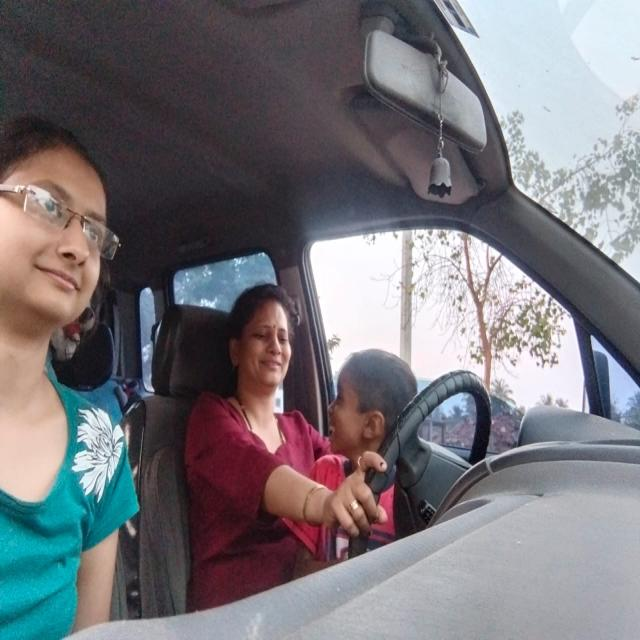child: (325, 344, 412, 458)
person: (2, 114, 122, 340), (224, 279, 310, 396)
